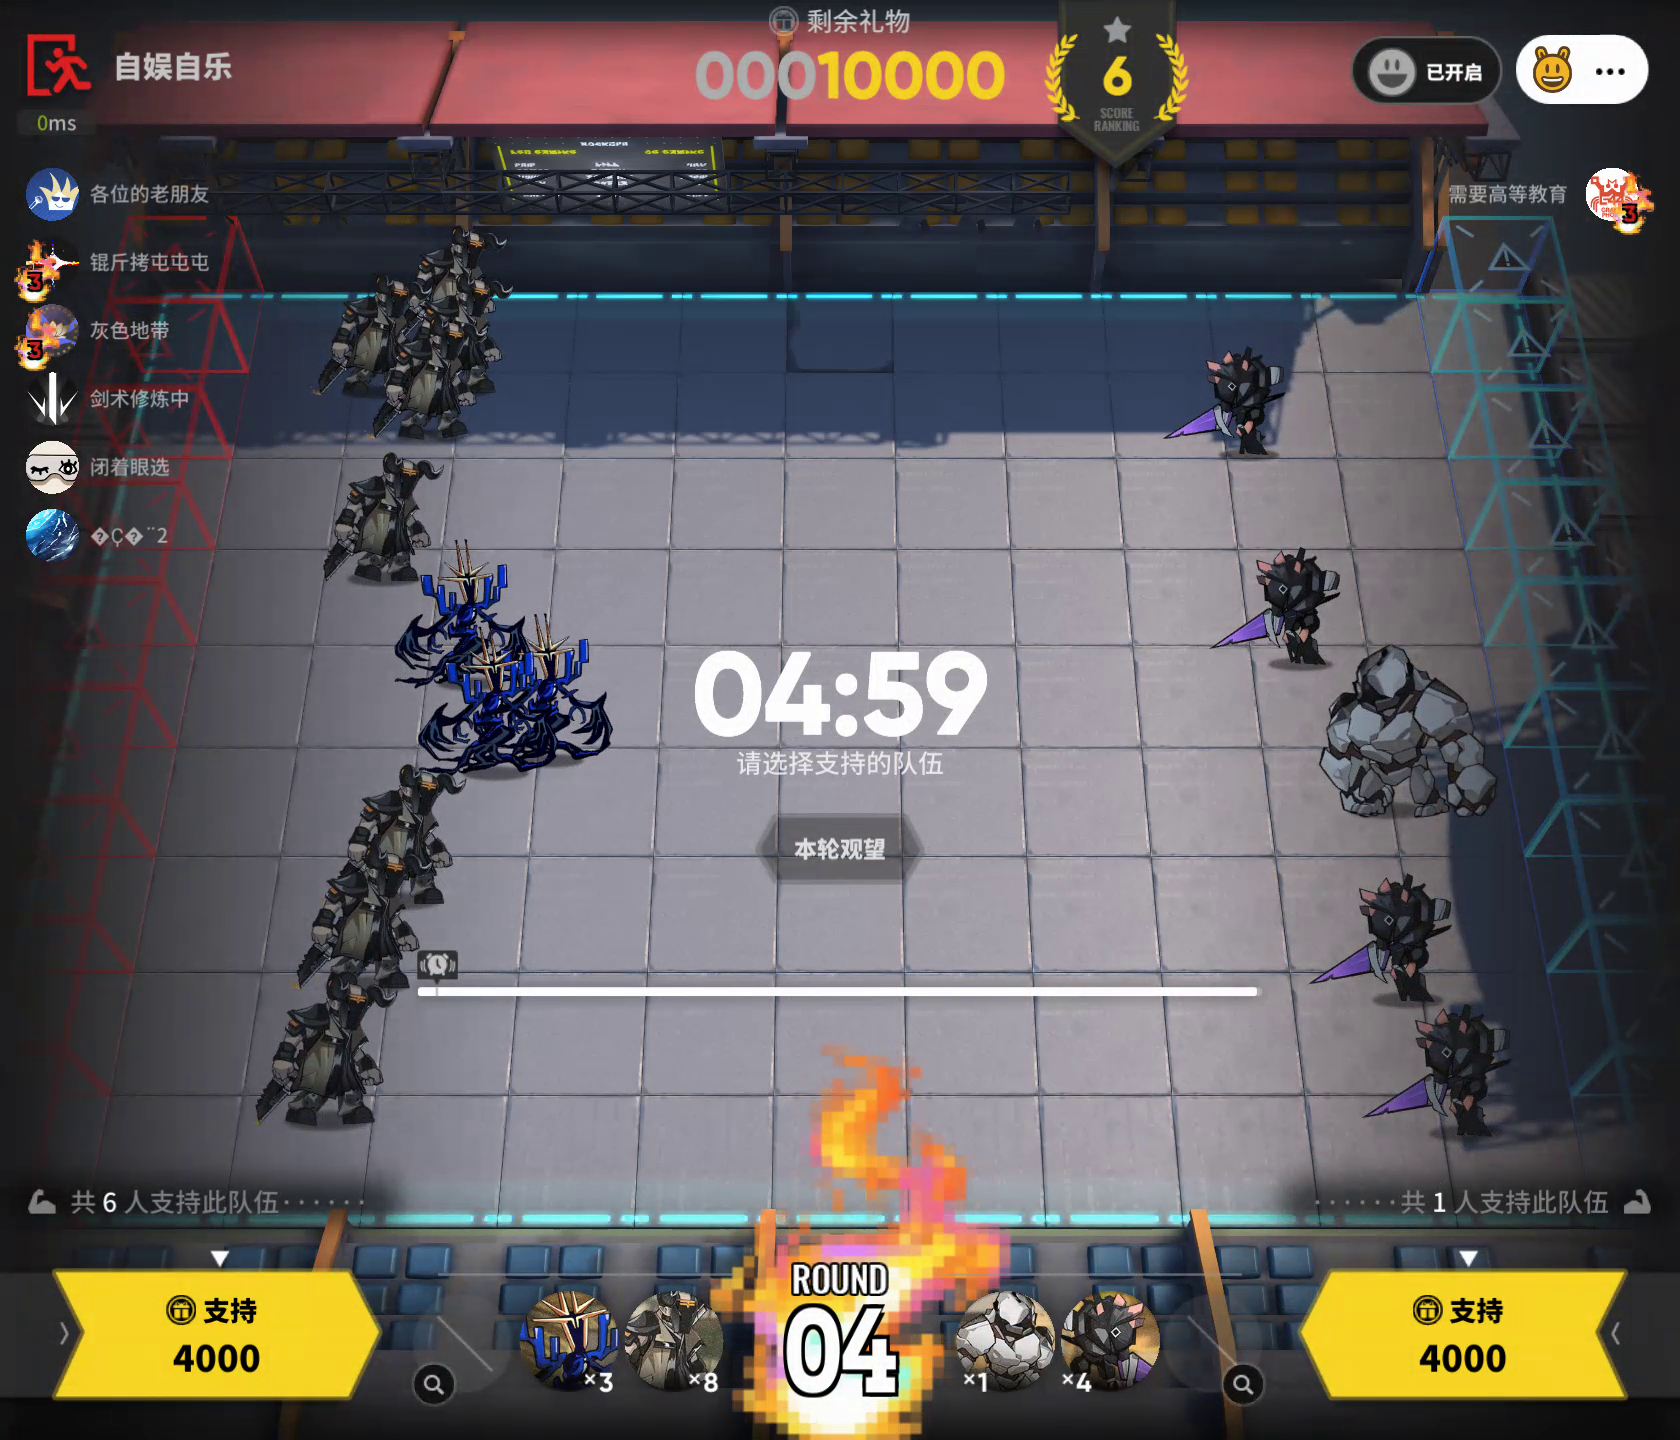普通的萨卡兹: (253, 964, 386, 1133), (291, 837, 421, 999), (346, 759, 466, 916), (319, 447, 446, 589), (314, 269, 419, 403), (379, 306, 479, 444), (416, 217, 514, 341), (626, 1290, 729, 1387), (454, 270, 519, 364)
狂躁珊瑚: (397, 530, 551, 704), (496, 609, 626, 760), (429, 633, 546, 787), (524, 1290, 614, 1401)
畸变之矛: (1359, 999, 1514, 1143), (1306, 867, 1449, 1001), (1204, 541, 1349, 673), (1161, 339, 1296, 467), (1059, 1284, 1161, 1391)
砸人的石头: (1317, 641, 1503, 831), (949, 1280, 1054, 1393)
